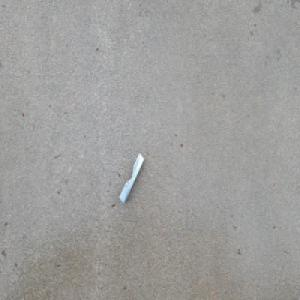ClampPart: (118, 152, 144, 205)
